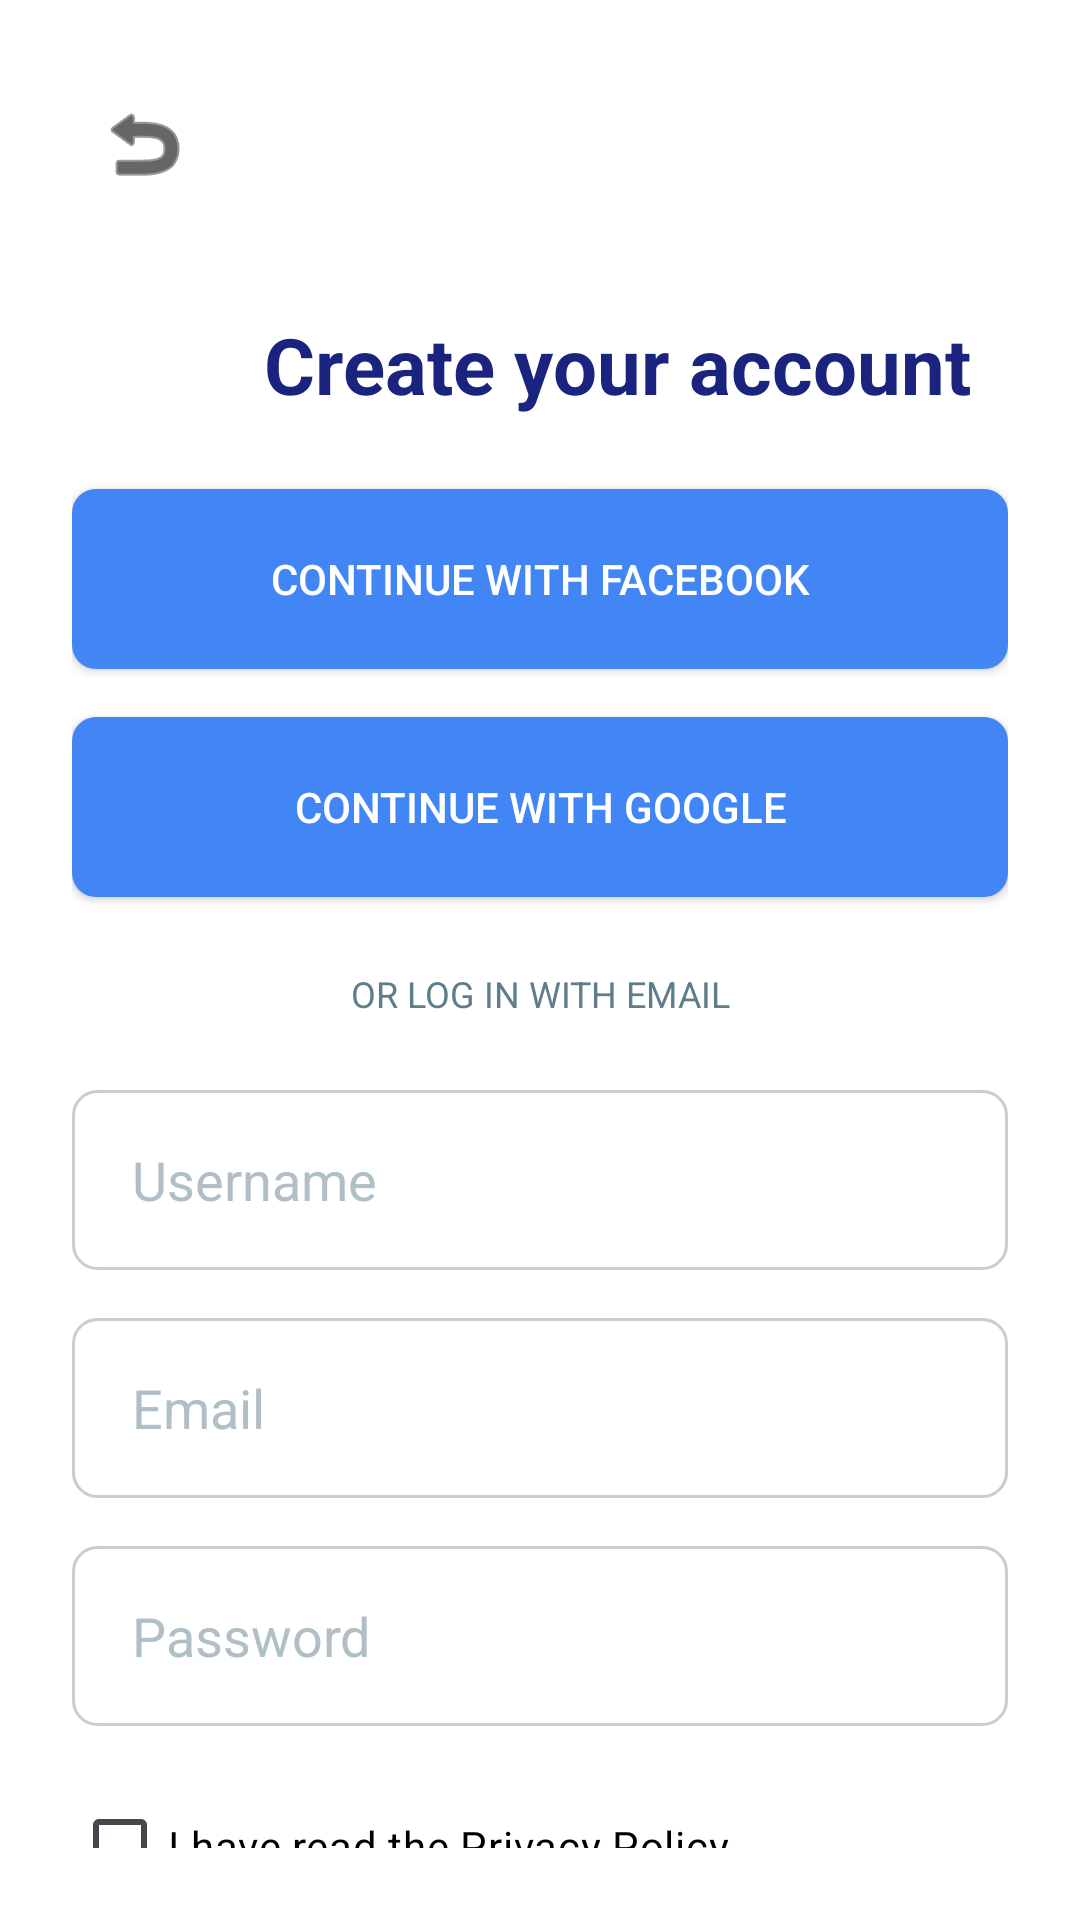

Icons on this 1080*1920 Android screen, each with its box as (x1, y1, x2, y2):
Back: (111, 113, 180, 176)
